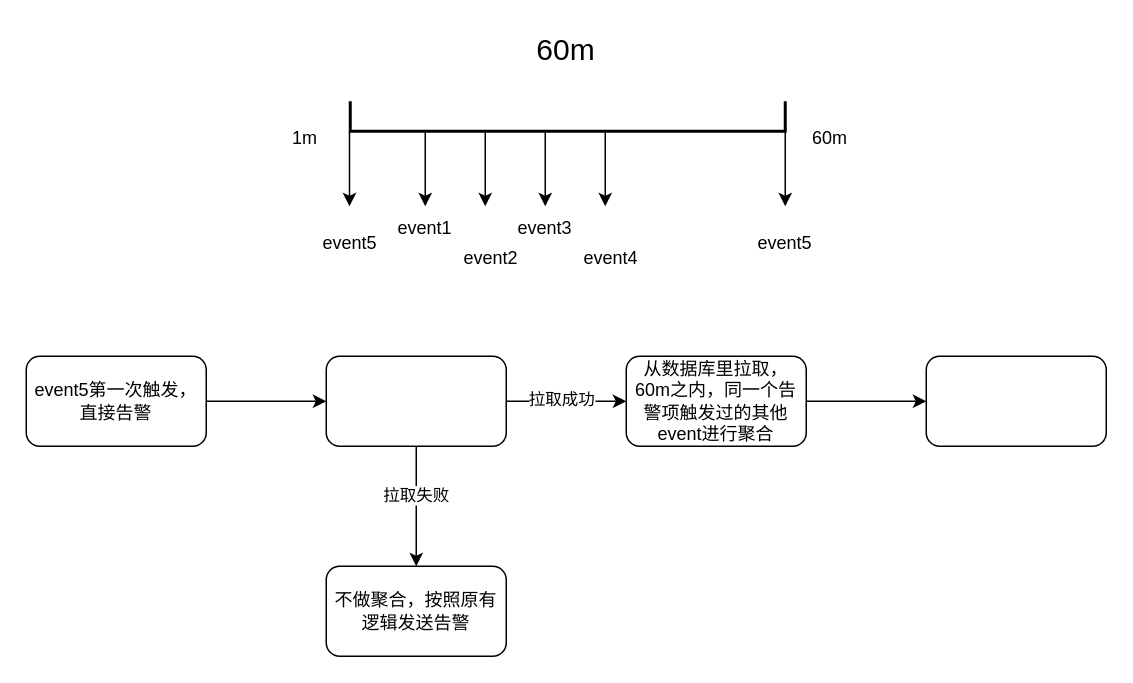
Some shapes in this 1133 by 683 pixel diagram are drawn without their labels. The shapes that lost their labels are listed below. From the top down, each one's centre as x and y in pixels, then its label:
[415,400]: event5，60m之后第二次触发
[1015,400]: 聚合成一条进行发送
